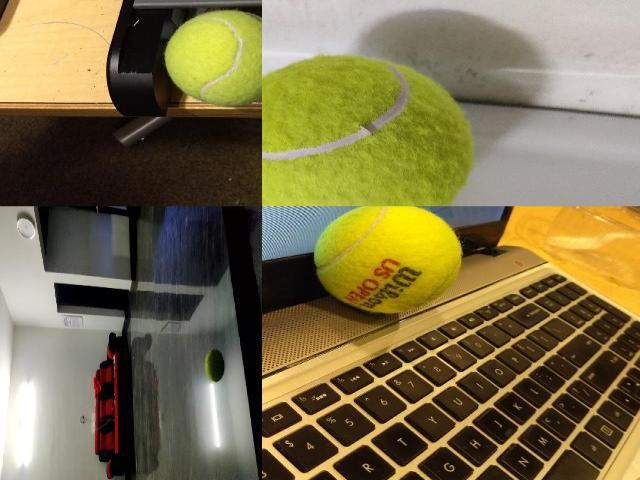tennis-ball: (262, 51, 478, 205), (311, 206, 463, 314), (164, 9, 261, 107), (204, 348, 224, 382)
